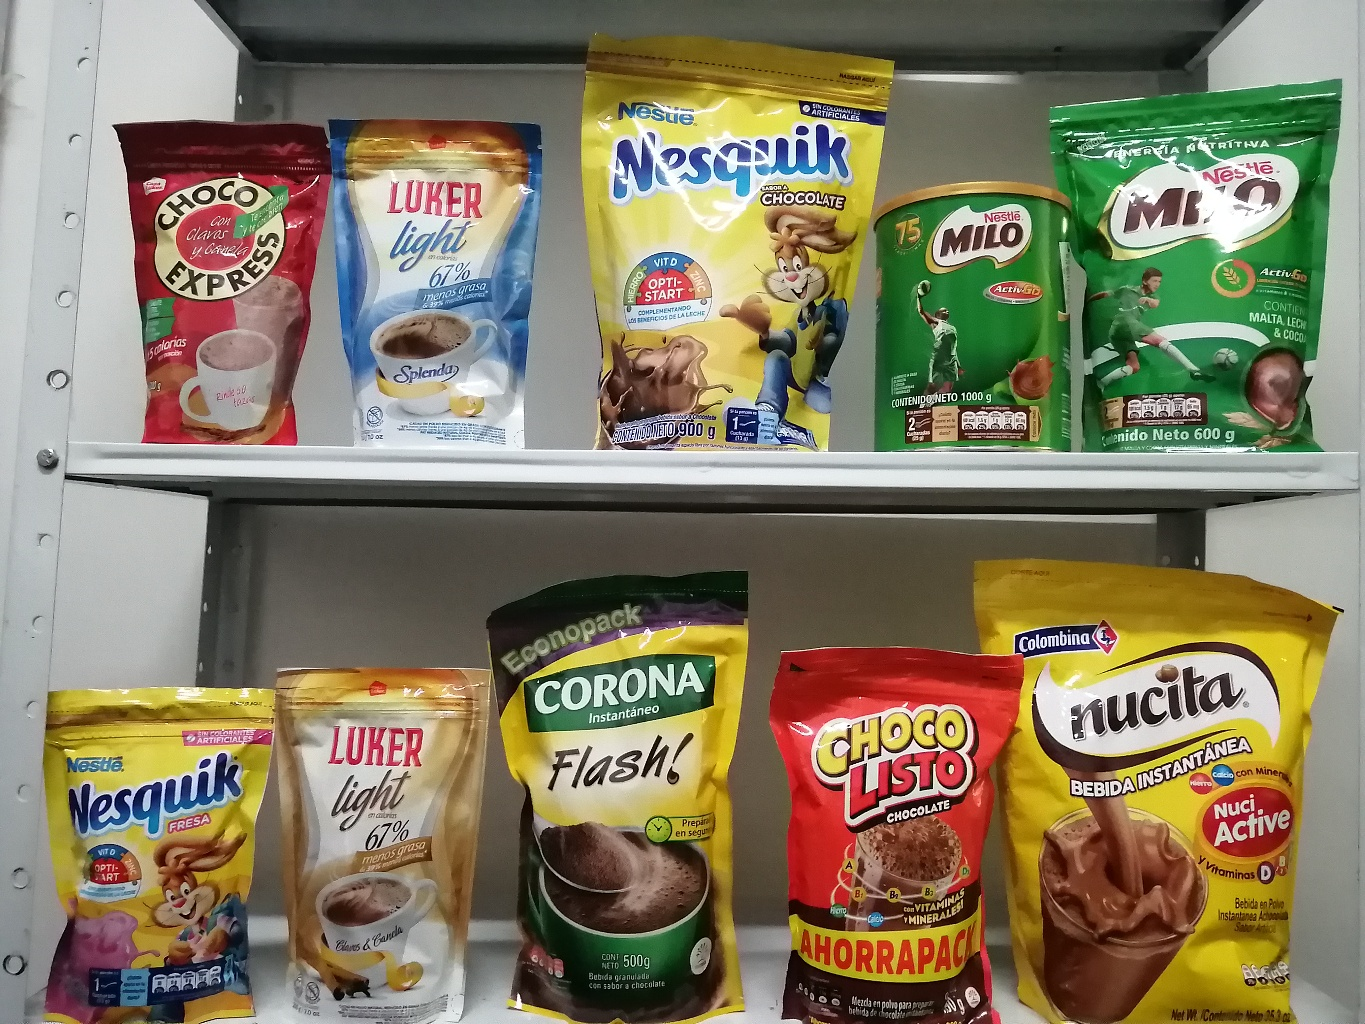COL0170103DYP40000: (756, 632, 997, 1019)
COL0170305DYP20000: (43, 663, 272, 1016)
